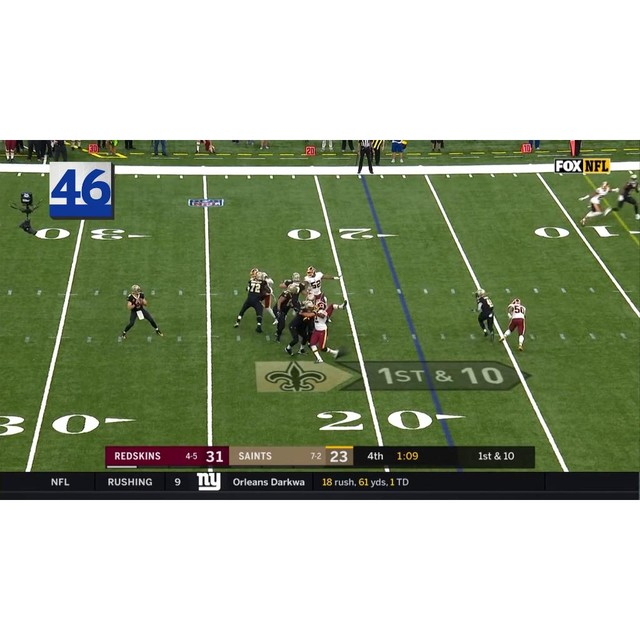american-football-player: (121, 285, 163, 340), (307, 302, 341, 365), (233, 270, 265, 332), (285, 300, 315, 356), (272, 285, 298, 344), (499, 297, 527, 351), (580, 182, 614, 226), (609, 173, 640, 220), (472, 289, 496, 340), (303, 267, 327, 305)
referee: (357, 140, 375, 174)
